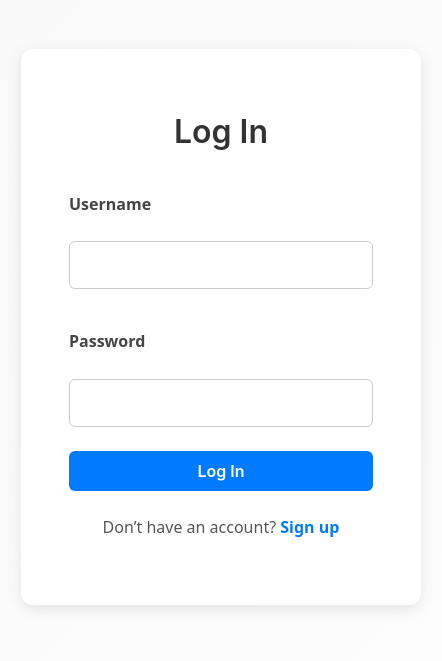
Scenario: failed login: empty server error
The width and height of the screenshot is (442, 661).
Type "testingworld" into the field labelled "Username". click: point(221, 265)
box: 69,241 -> 373,289
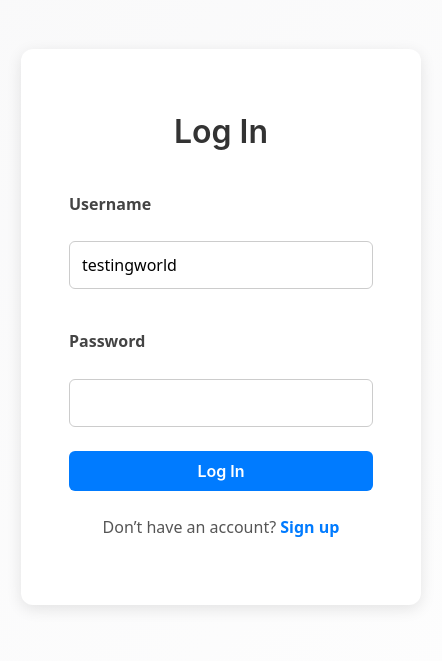
Type "testingworld" into the password field labelled "Password". click: point(221, 403)
box: 69,379 -> 373,427
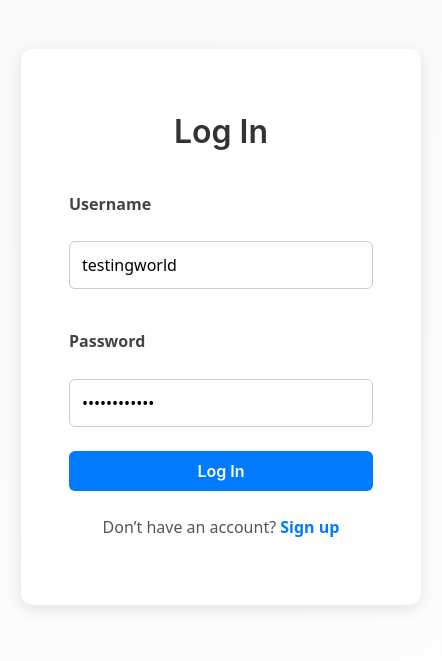
Click the button. click: point(221, 471)
box: 69,451 -> 373,491
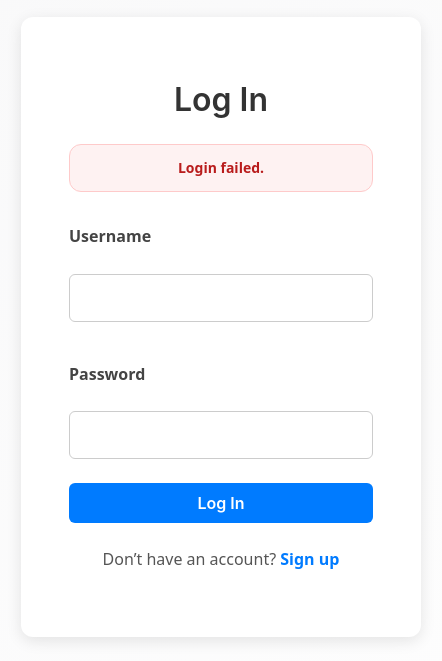
Expected: the text "Login failed." is shown, 69,144 -> 373,192
